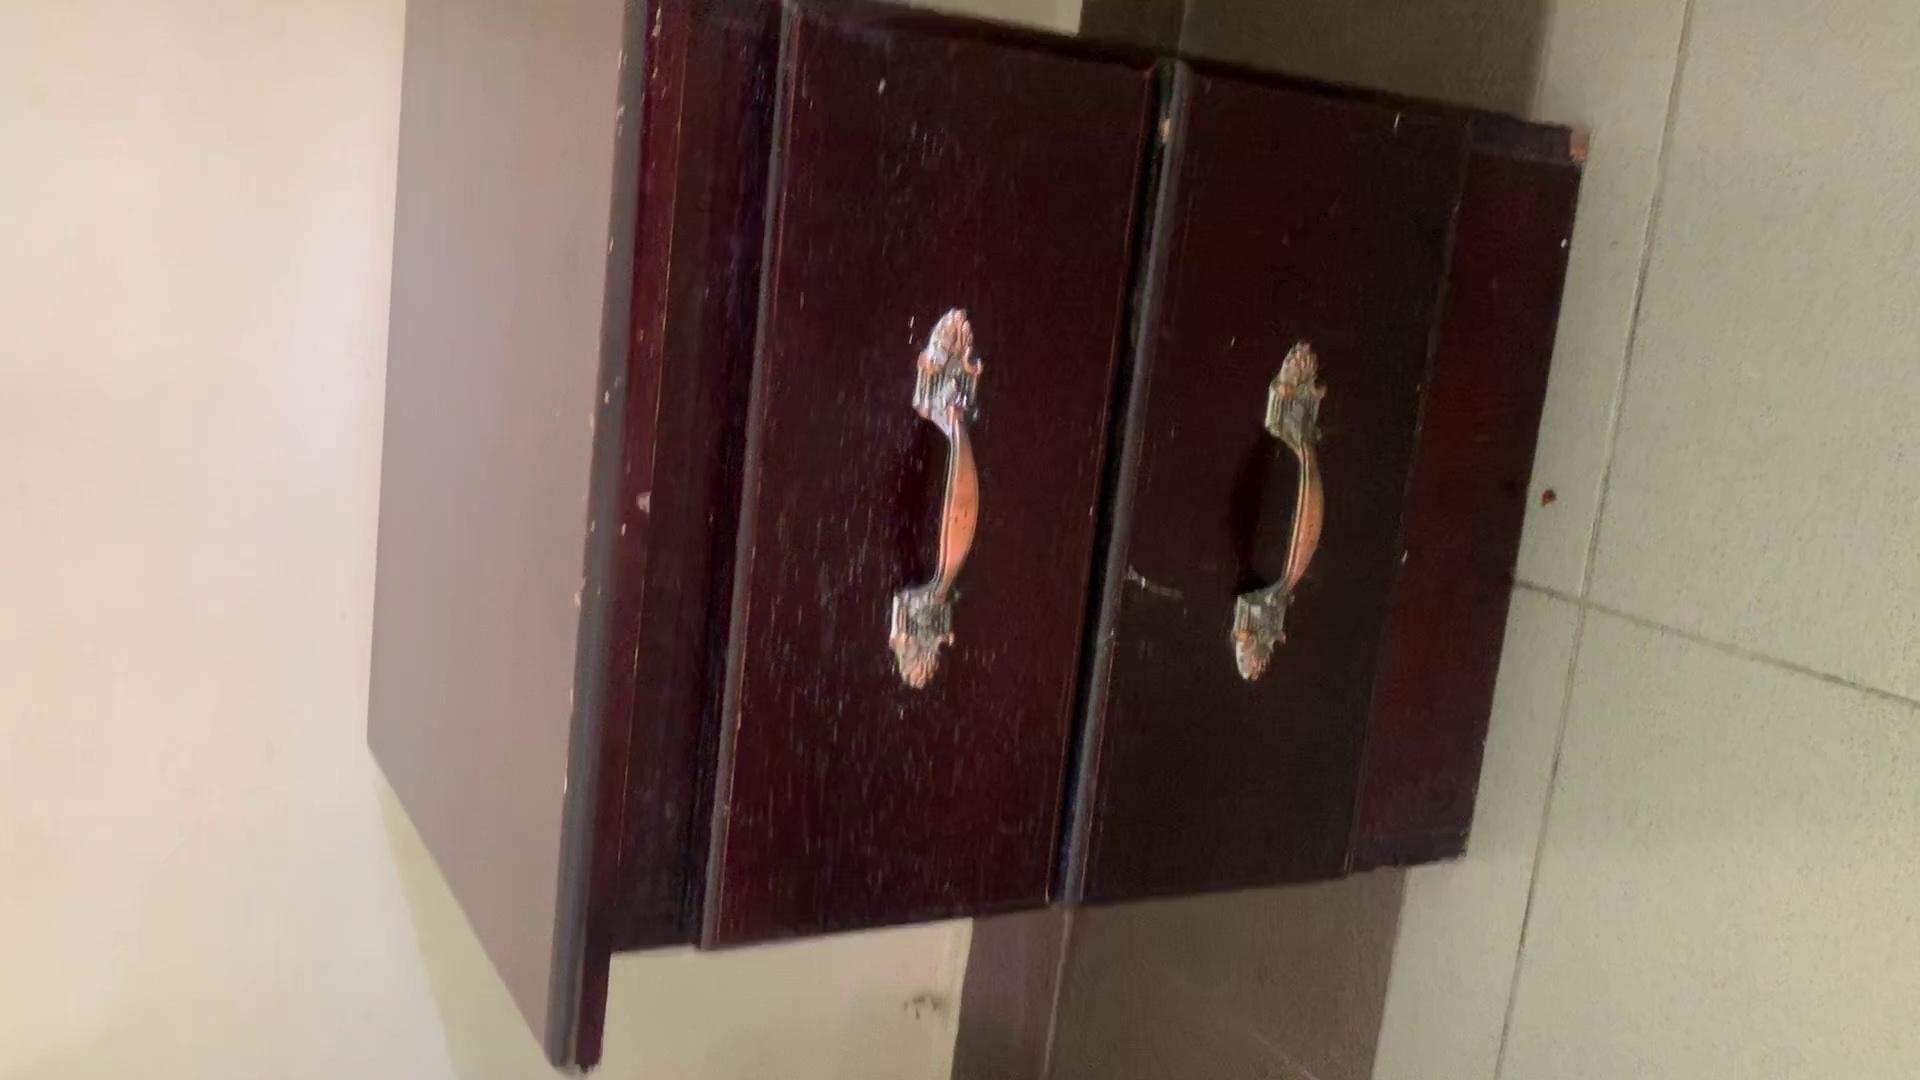cabinet_door: (756, 28, 1122, 924), (1156, 92, 1427, 897)
handle: (874, 294, 1004, 703), (1220, 332, 1346, 687)
